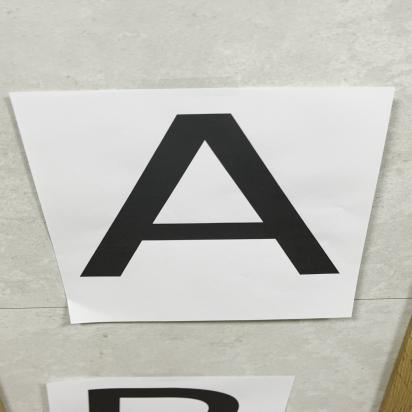seat: (72, 99, 346, 278)
